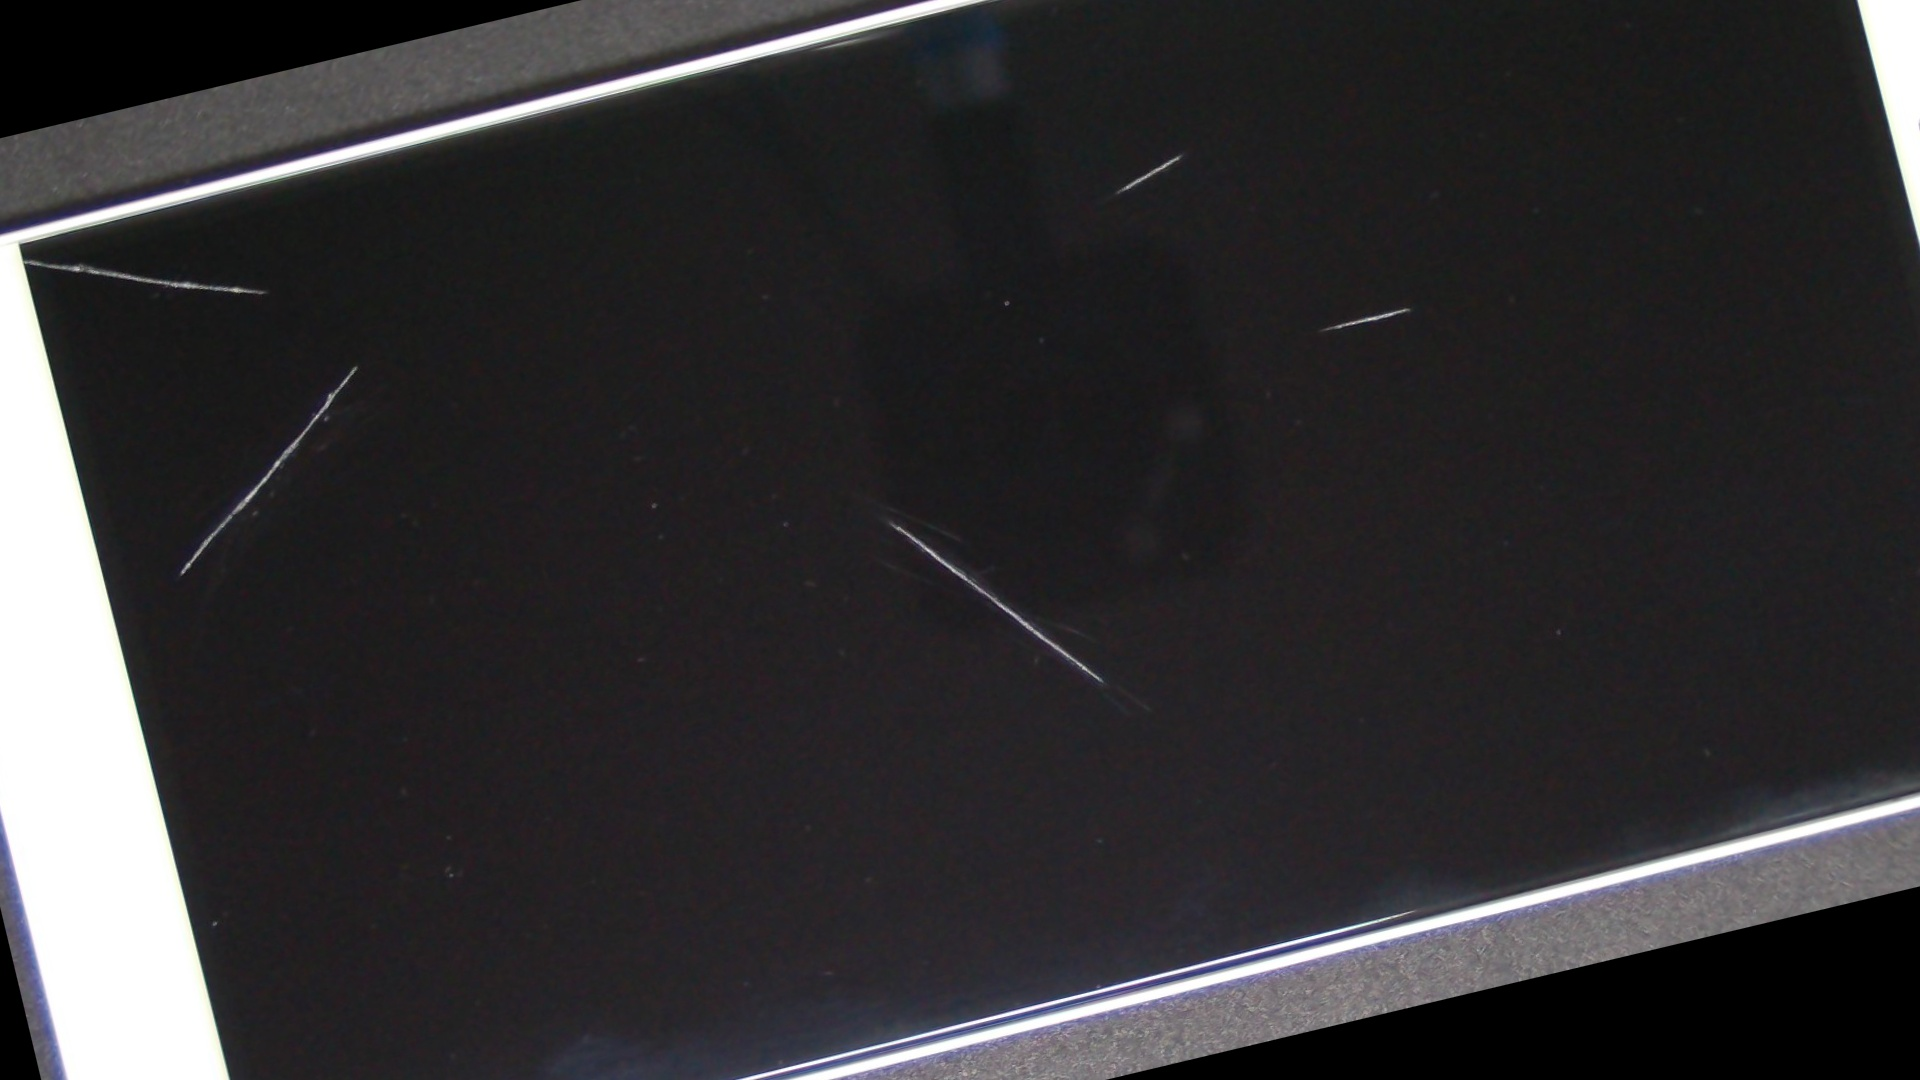oil: (578, 0, 1920, 729), (357, 128, 1418, 913), (504, 0, 1855, 447), (92, 162, 616, 568), (0, 179, 124, 340)
